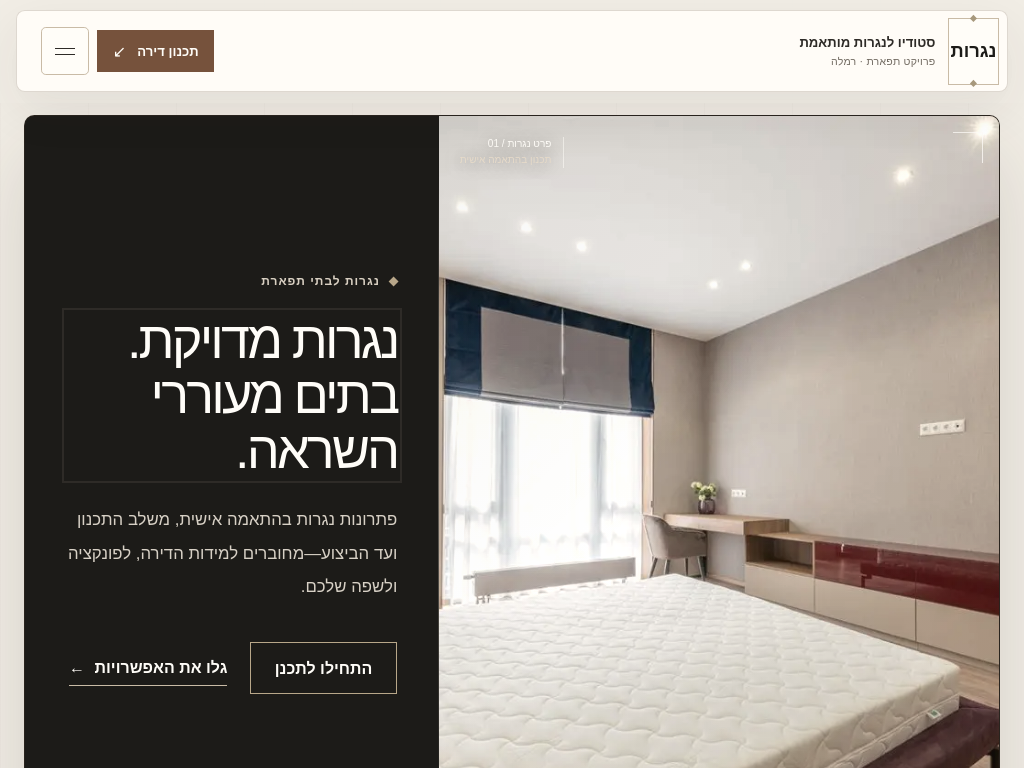
it: Tiferet carpentry website › offers an accessible mobile navigation panel
Step 1. Click the button named "פתיחת תפריט" → (64, 51), box 40,27 -> 88,75
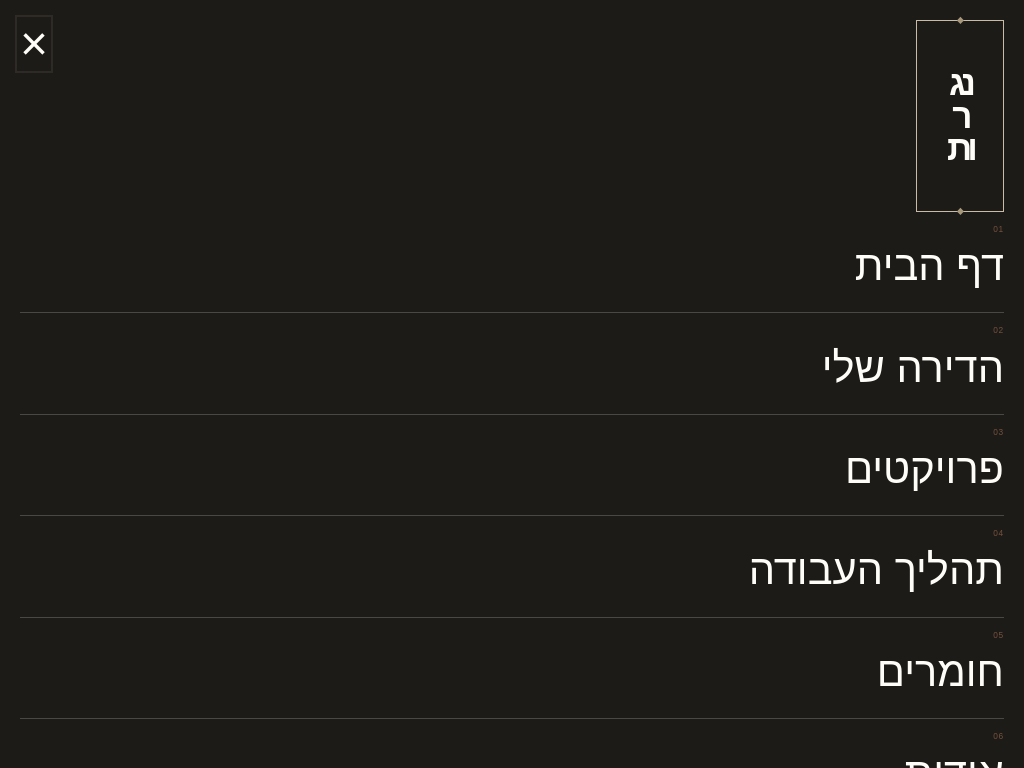
Result: the dialog named "תפריט האתר" is shown
Result: the button named "סגירת תפריט" is shown at 20,20 -> 48,68
